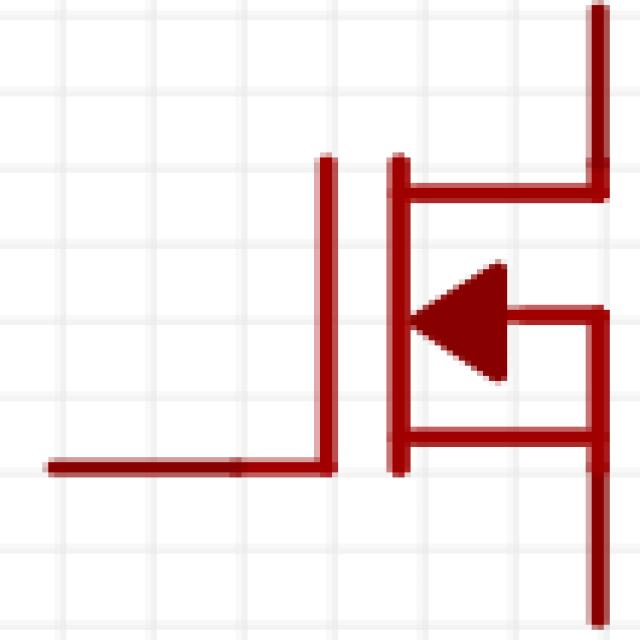nmos: (48, 10, 640, 620)
